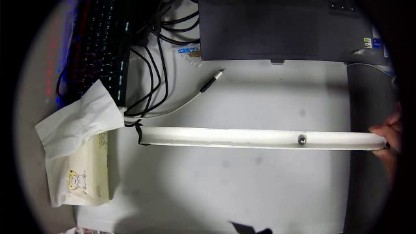gangzhu: (298, 134, 306, 146)
